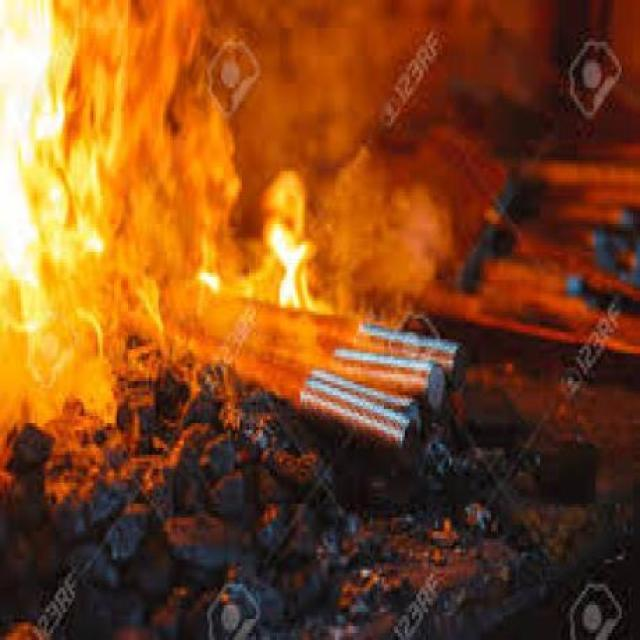Fire: (0, 0, 325, 435)
Smoke: (227, 2, 556, 148), (334, 153, 460, 329)
